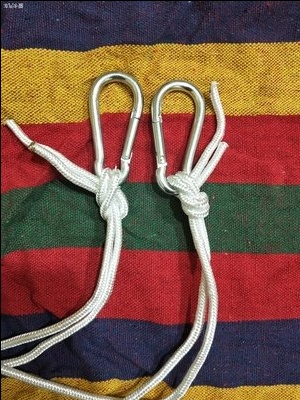9/可回收垃圾/绳子: (1, 78, 229, 400), (1, 71, 143, 368)
